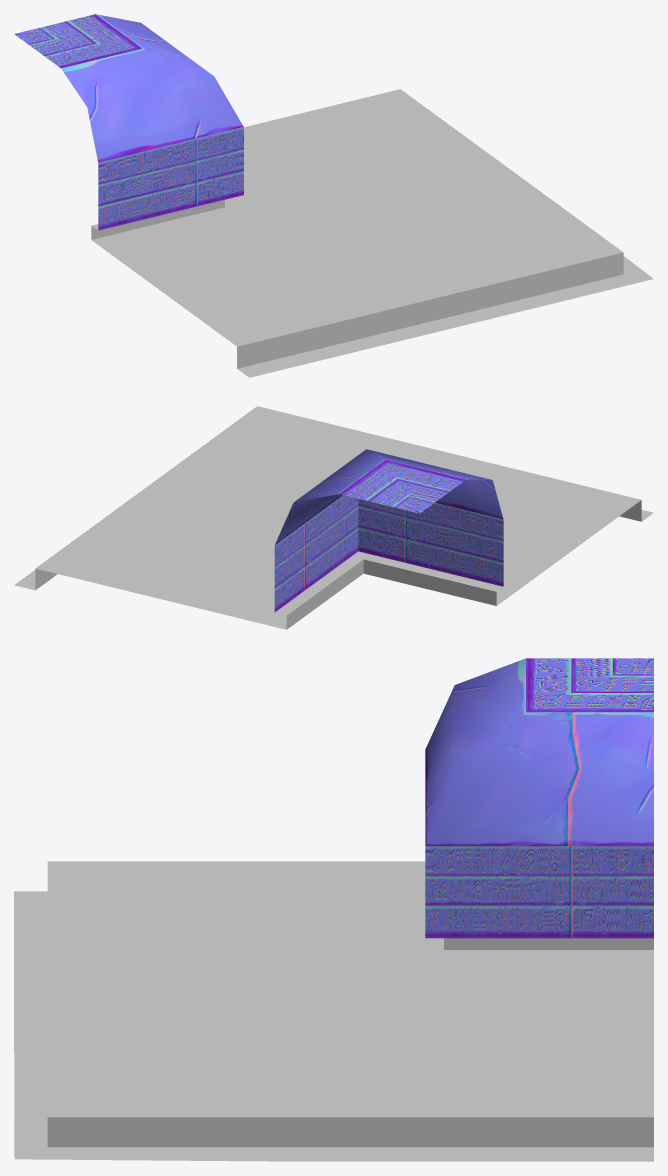
The model's file is TallWallCellingCorner.fbx.
3 renders of one model, top to bottom at view 1: azimuth 30°, elevation 25°; view 2: azimuth 150°, elevation 25°; view 3: azimuth 270°, elevation 25°, orthographic. The views are drawn at different scales.
Visible parts, largest first — view 1: TallWallCellingCorner; view 2: TallWallCellingCorner; view 3: TallWallCellingCorner.
Boxes of the visible parts, x1,y1,x2,y2 form: TallWallCellingCorner: [14, 14, 653, 377]; TallWallCellingCorner: [14, 406, 653, 629]; TallWallCellingCorner: [14, 658, 653, 1161].
Bounding box in the file's own units: 539 × 217 × 539.
